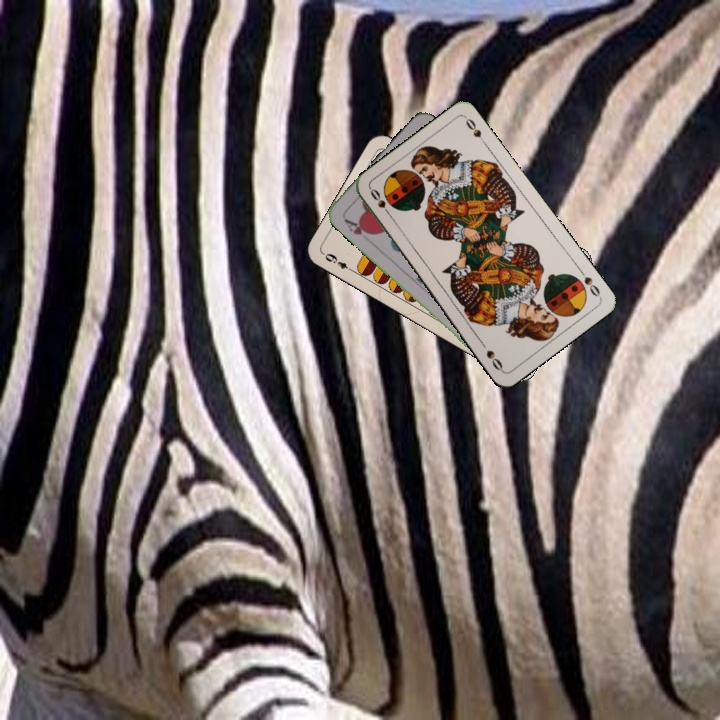E9: (319, 249, 357, 275)
HA: (340, 214, 376, 245)
SO: (366, 185, 395, 220), (575, 265, 603, 300)
